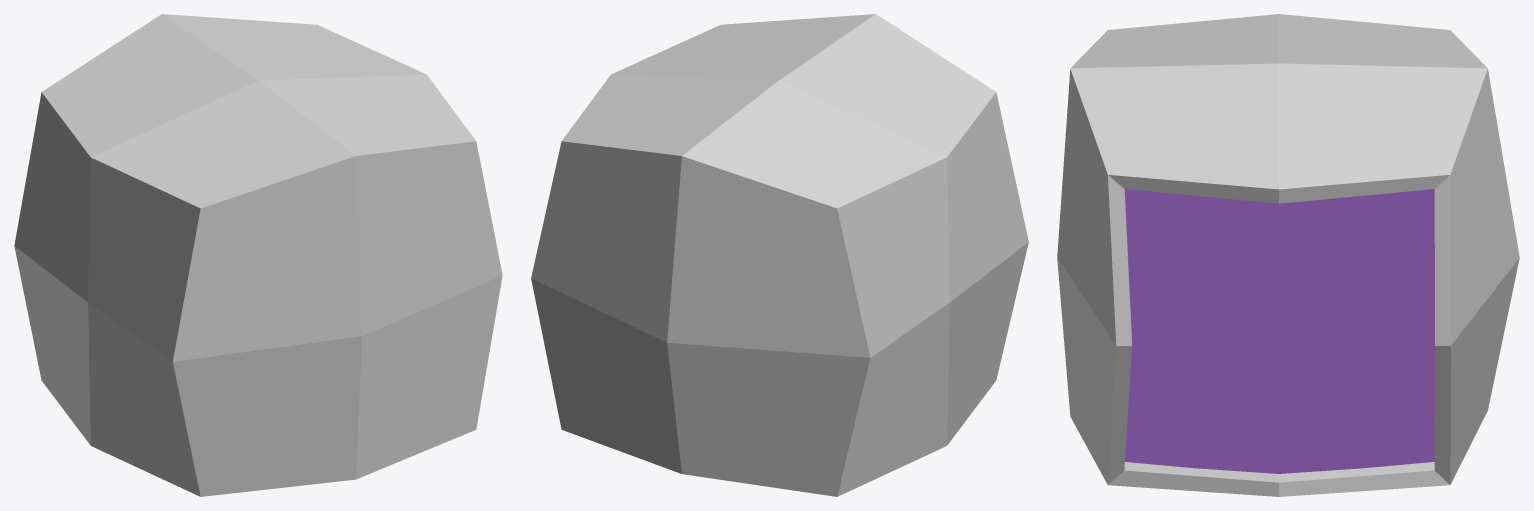
The picture shows the model from 3 angles, left to right: view 1: azimuth 30°, elevation 25°; view 2: azimuth 150°, elevation 25°; view 3: azimuth 270°, elevation 25°; orthographic projection. The views are drawn at different scales.
Parts seen in each view (by area): view 1: TV Backing; view 2: TV Backing; view 3: TV Backing, TV Screen.
Boxes of the visible parts, x1,y1,x2,y2 form: TV Backing: (14,14,502,496); TV Backing: (531,14,1028,496); TV Backing: (1057,14,1519,496); TV Screen: (1125,189,1434,473).
Size of the model in its own units: 123 by 114 by 135.
